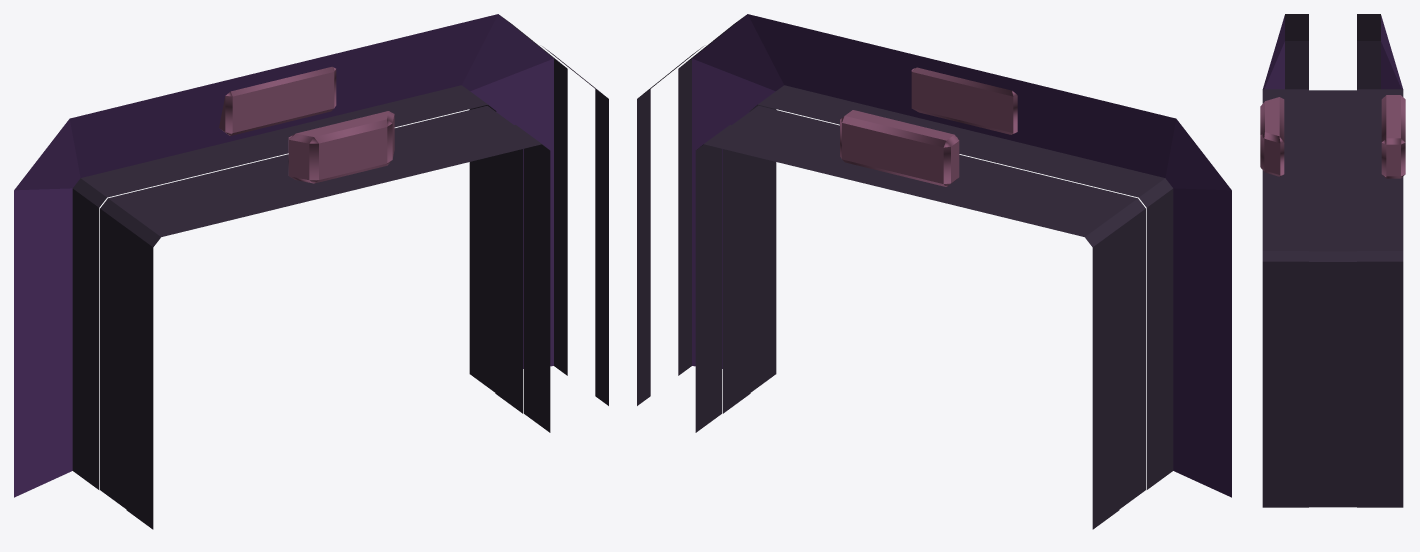
File: SM_SB_Kit_AlienPortal_500x350.fbx
The picture shows the model from 3 angles, left to right: view 1: azimuth 30°, elevation 25°; view 2: azimuth 150°, elevation 25°; view 3: azimuth 270°, elevation 25°; orthographic projection. The views are drawn at different scales.
Visible parts, largest first — view 1: SM_SB_Kit_AlienPortal_500x350; view 2: SM_SB_Kit_AlienPortal_500x350; view 3: SM_SB_Kit_AlienPortal_500x350.
Boxes of the visible parts, left/top/right/bottom form: SM_SB_Kit_AlienPortal_500x350: left=14, top=14, right=608, bottom=529; SM_SB_Kit_AlienPortal_500x350: left=637, top=14, right=1231, bottom=529; SM_SB_Kit_AlienPortal_500x350: left=1260, top=14, right=1405, bottom=507.
Size of the model in its own units: 680 by 182 by 440.
